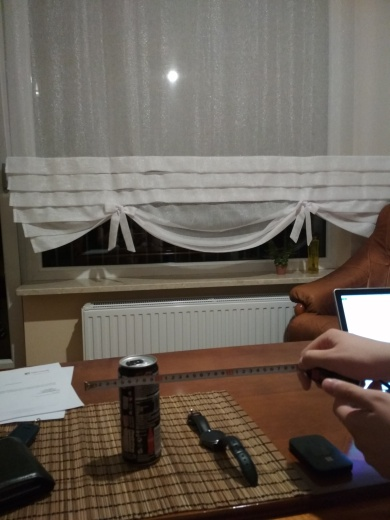colazero: (104, 344, 173, 476)
